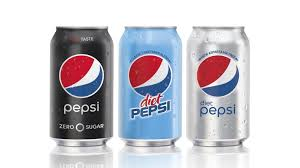can: (189, 13, 255, 154), (45, 18, 110, 154), (120, 17, 183, 156)
